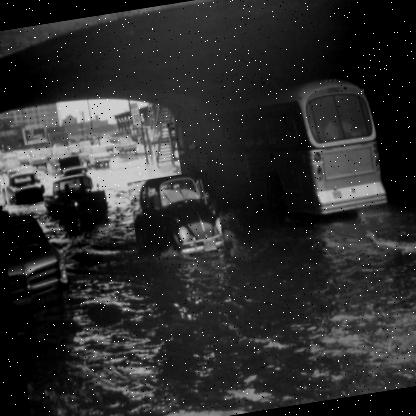Car: (0, 121, 183, 207), (127, 170, 225, 262), (0, 201, 71, 302), (40, 170, 108, 220), (1, 165, 50, 207), (0, 191, 3, 210)
